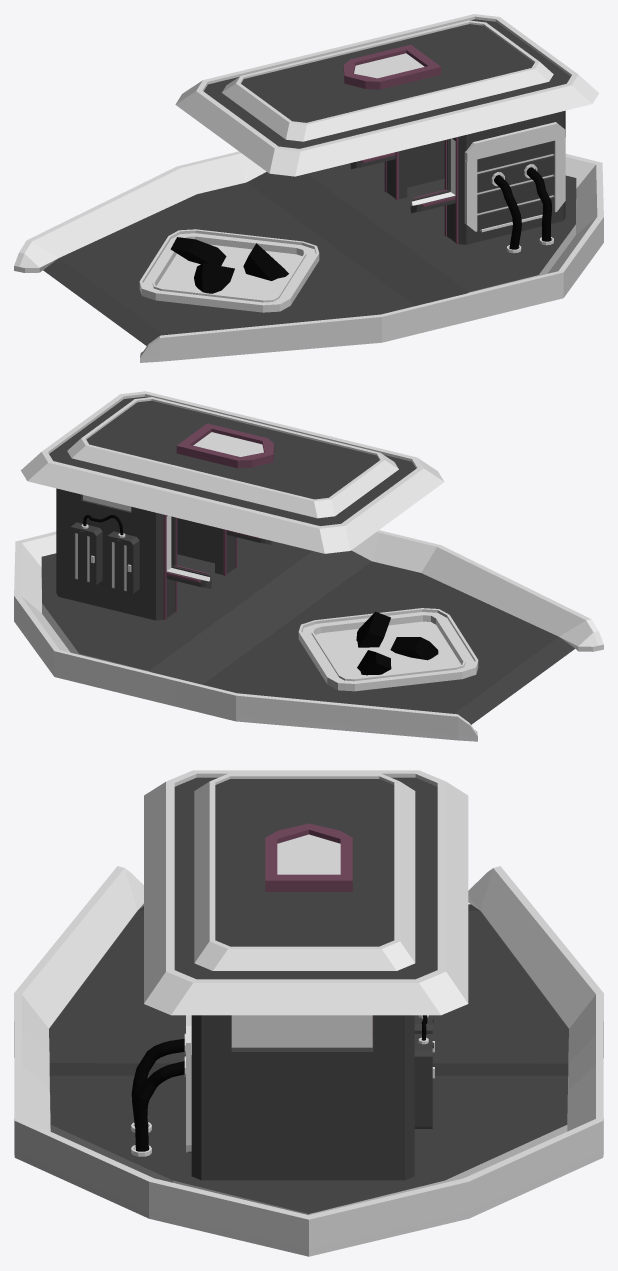
File: Spider Island Level 1 Charging Station.fbx
3 renders of one model, top to bottom at view 1: azimuth 30°, elevation 25°; view 2: azimuth 150°, elevation 25°; view 3: azimuth 270°, elevation 25°, orthographic. The views are drawn at different scales.
Visible parts, largest first — view 1: Charging Station; view 2: Charging Station; view 3: Charging Station.
Part boxes in pixels (x1,y1,x2,y2): Charging Station: [14, 14, 603, 362]; Charging Station: [14, 391, 603, 741]; Charging Station: [14, 770, 603, 1256].
Bounding box in the file's own units: 20.04 × 6.41 × 13.57.
